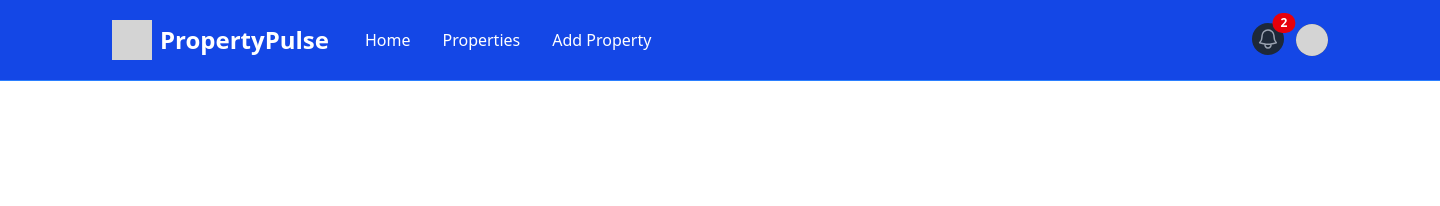
Test: NavBar › Mobile & Desktop - logged in status › should display the correct menu item content in the profile menu
The image size is (1440, 206).
What coordinates should you click on to do the following:
click the 2nd button named "open user menu"
I would click on:
 (1312, 40)
Its box is [1296,24,1328,56].
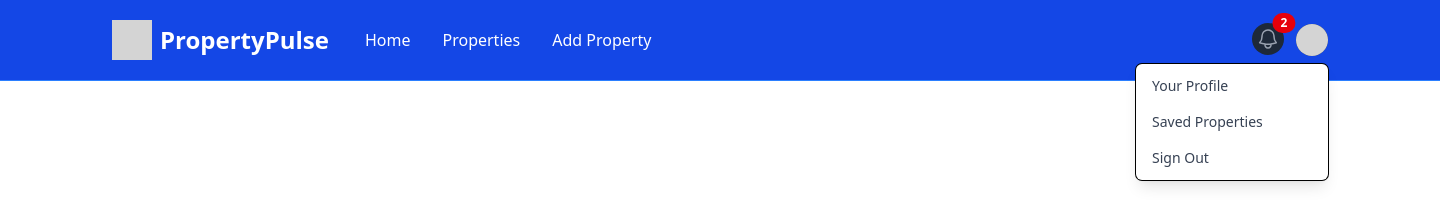
Expected: the menu item "Your Profile" is shown, [1152,76,1228,95]
Expected: the menu item "Saved Properties" is shown, [1152,112,1263,131]
Expected: the menu item "Sign Out" is shown, [1136,140,1225,176]
